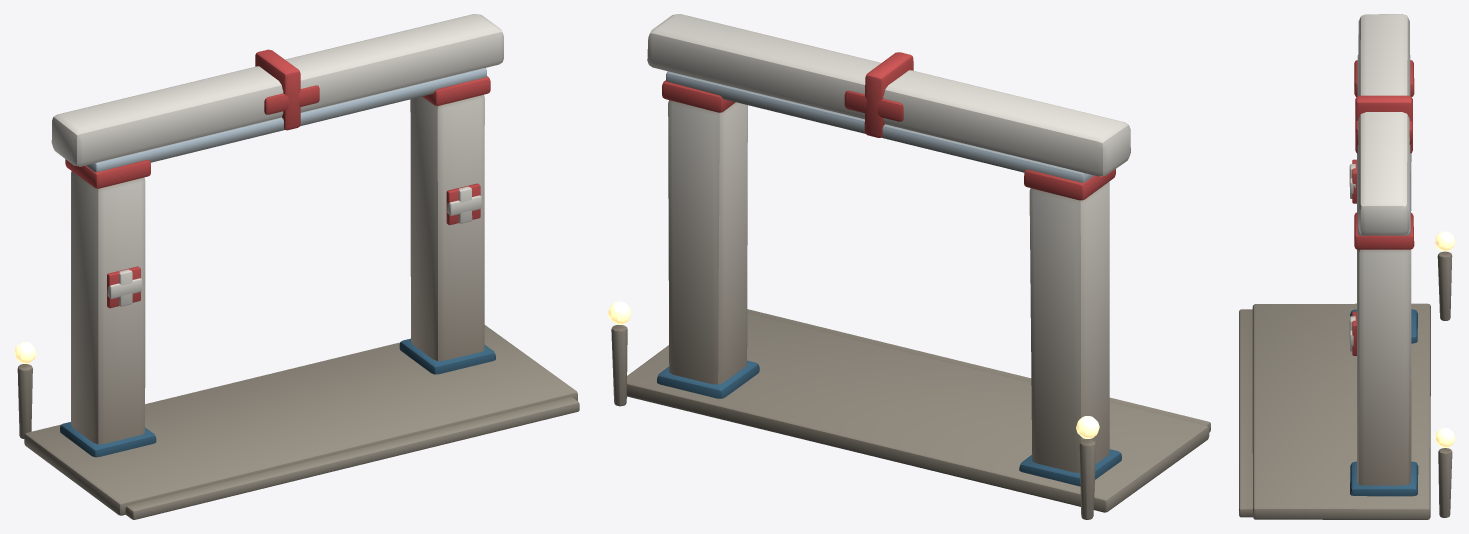
The picture shows the model from 3 angles, left to right: view 1: azimuth 30°, elevation 25°; view 2: azimuth 150°, elevation 25°; view 3: azimuth 270°, elevation 25°; orthographic projection. The views are drawn at different scales.
Parts seen in each view (by area): view 1: gate_8f5545fb; view 2: gate_8f5545fb; view 3: gate_8f5545fb.
Part boxes in pixels (x1,y1,x2,y2): gate_8f5545fb: (14,14,579,519); gate_8f5545fb: (608,14,1210,519); gate_8f5545fb: (1239,14,1454,519).
Bounding box in the file's own units: 5.75 × 4.18 × 2.55.
